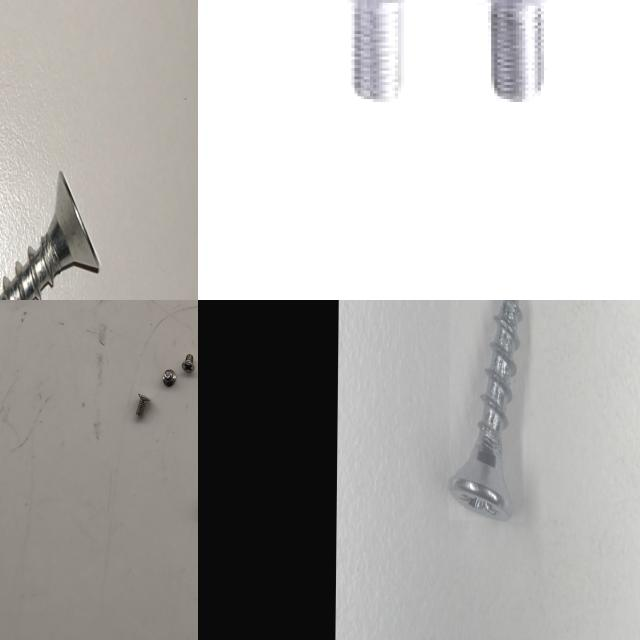Screw: (448, 300, 522, 520), (0, 170, 100, 300), (343, 0, 413, 102), (478, 0, 549, 99), (132, 391, 153, 421), (180, 349, 196, 376), (160, 366, 178, 388)
